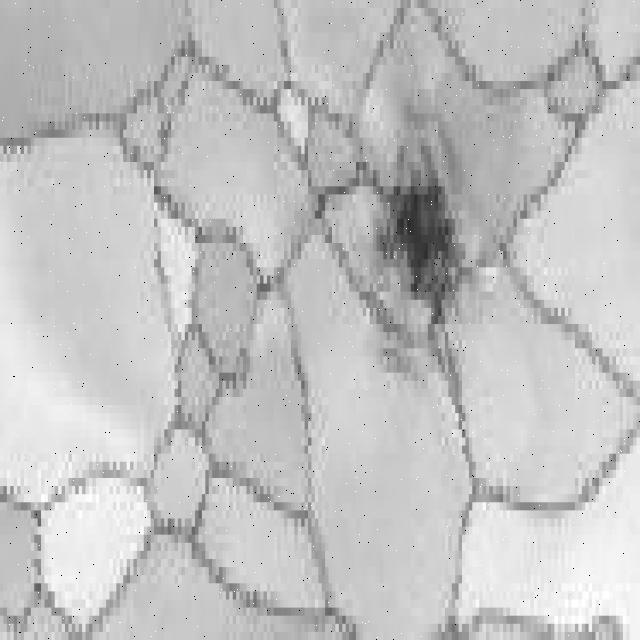good_void: (371, 106, 461, 333)
